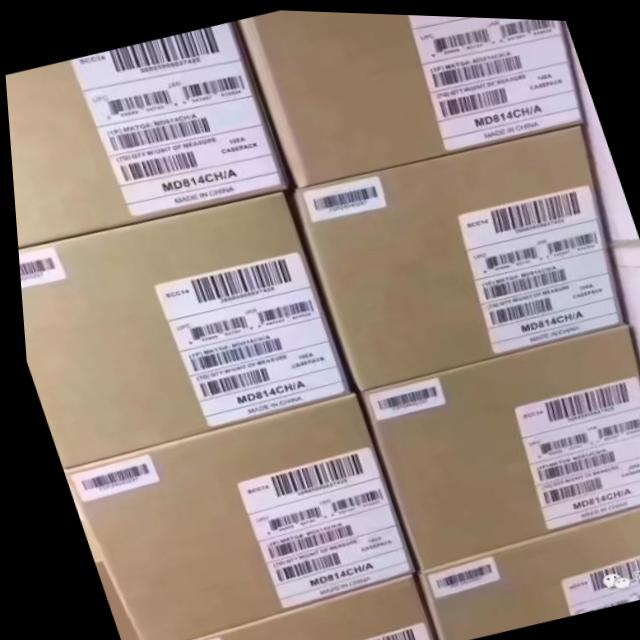box: (14, 187, 346, 468), (288, 118, 620, 388), (55, 388, 408, 640), (354, 317, 640, 567), (4, 18, 287, 248), (237, 8, 584, 186), (408, 499, 640, 640), (171, 568, 428, 640), (72, 518, 127, 640)
